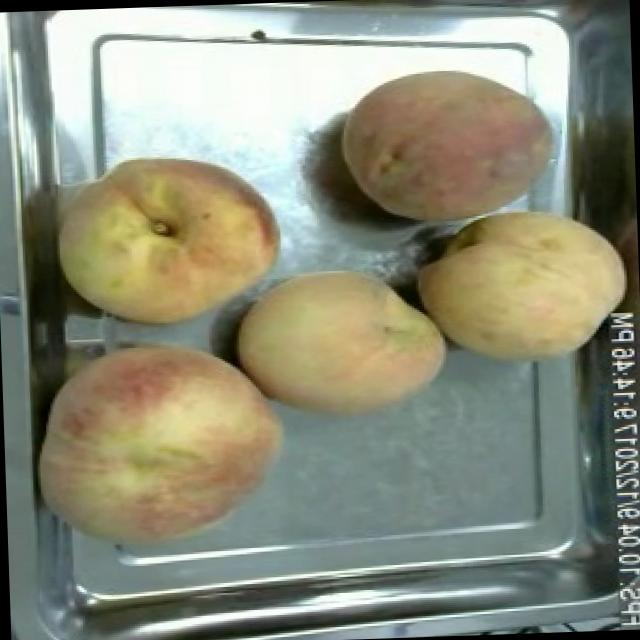Fruit: (26, 319, 296, 574), (46, 136, 290, 344), (328, 54, 564, 240), (405, 193, 637, 375), (223, 253, 458, 428)
